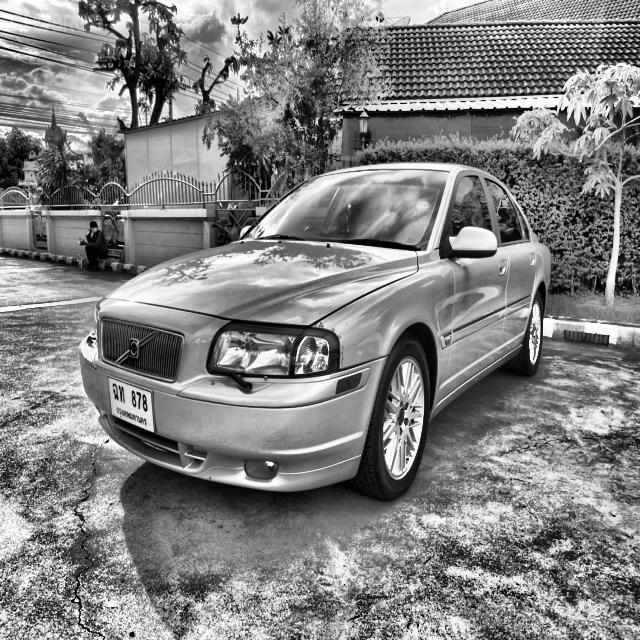license-plate: (107, 372, 157, 436)
